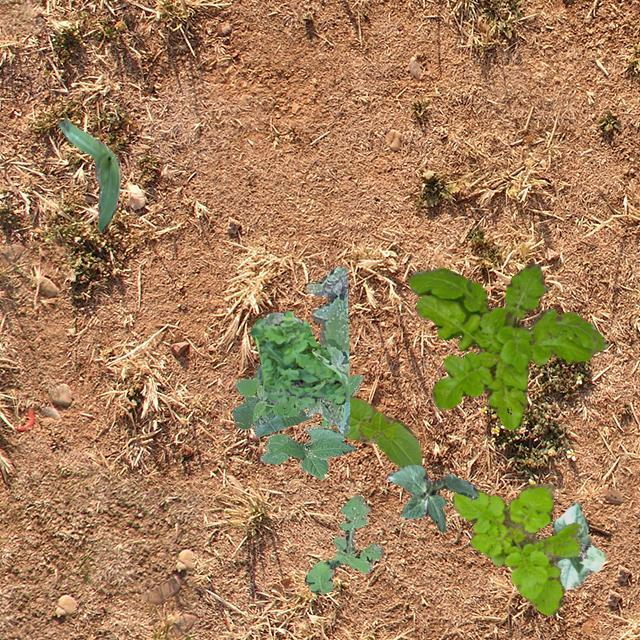crop: (58, 117, 120, 230), (386, 464, 478, 530), (232, 362, 310, 436), (342, 394, 422, 466), (260, 424, 354, 478), (552, 502, 604, 590)
weed: (408, 262, 606, 428), (452, 482, 580, 614), (264, 266, 348, 434), (248, 310, 344, 408), (304, 494, 382, 592), (235, 374, 362, 426)
